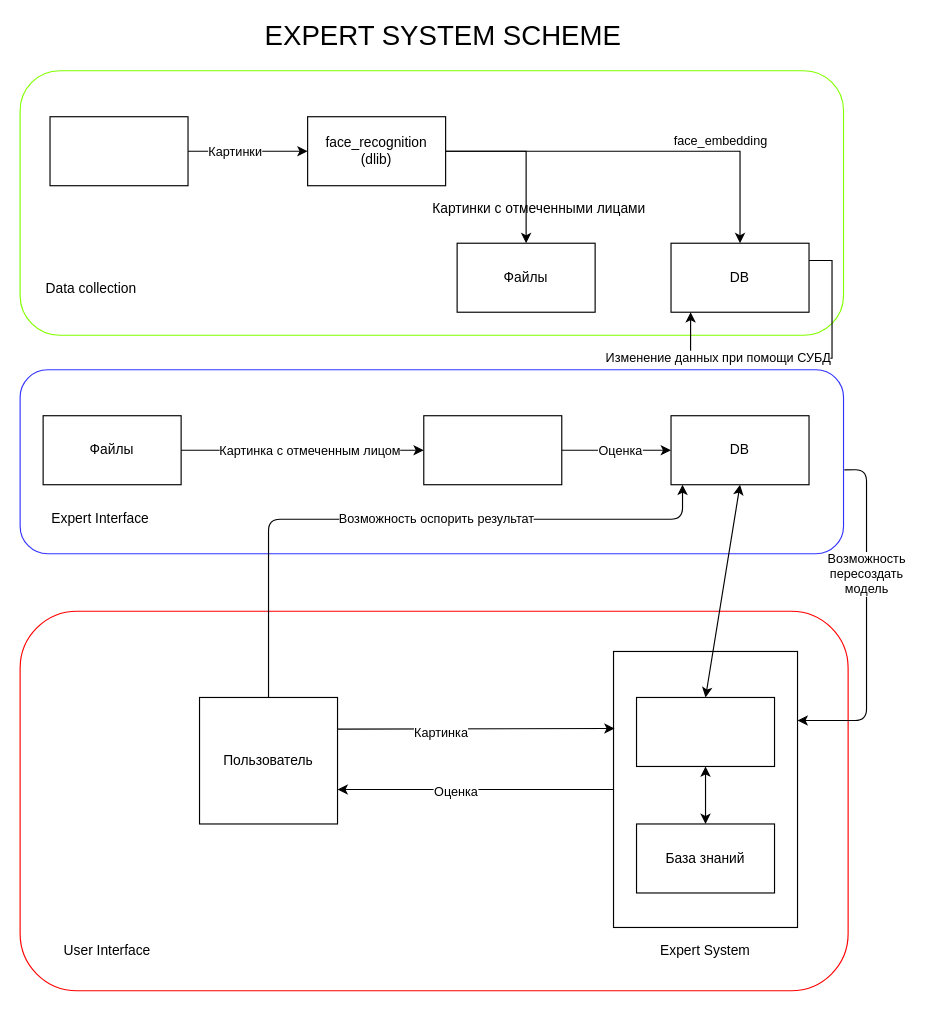
Image size: 925x1011. Some labels were removed from this diagram. Here are the shapes that lost their labels. From the top down, the box of each, then its label:
(49, 116, 188, 186): Badoo
(423, 415, 562, 485): Система разметки (веб интерфейс)
(635, 696, 775, 766): Модель SkLearn
